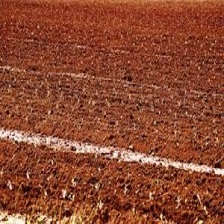clay_soil: (6, 12, 211, 205)
